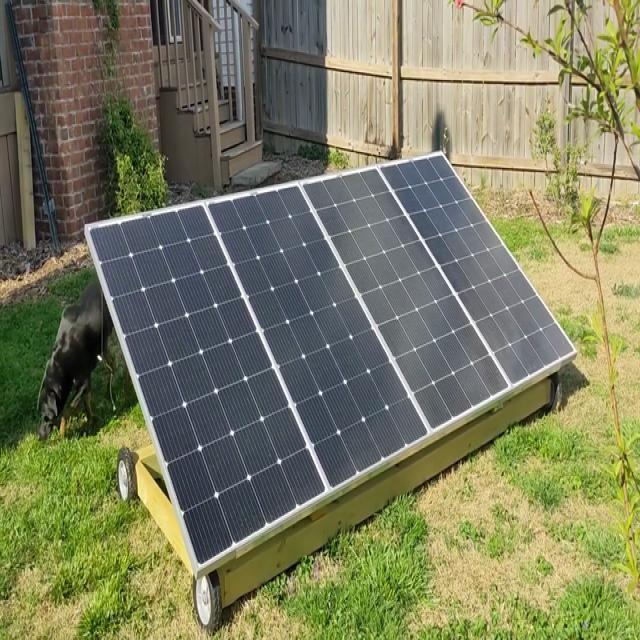Normal Solar Panel: (87, 156, 577, 569)
